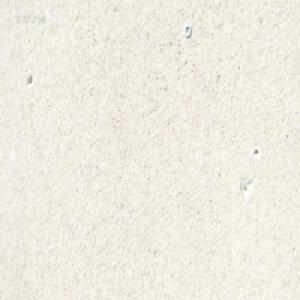Washer: (184, 24, 191, 38)
